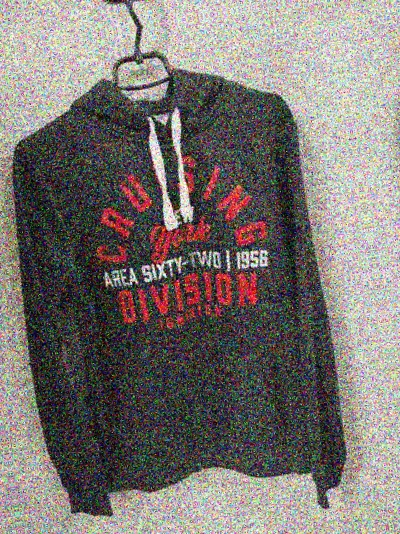Hoodie: (0, 25, 380, 534), (365, 0, 400, 478), (0, 0, 290, 33), (0, 91, 4, 534)
